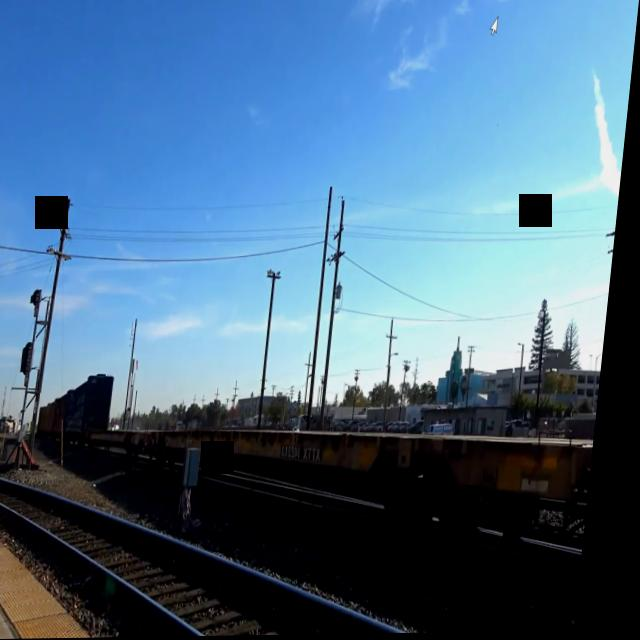flatcar: (405, 426, 605, 564), (163, 422, 412, 489), (94, 428, 171, 461)
